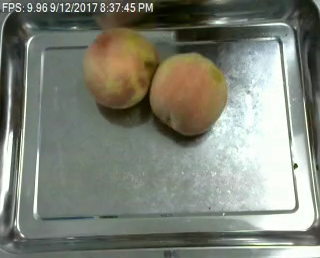Peach: (148, 50, 227, 134), (84, 27, 158, 109)
